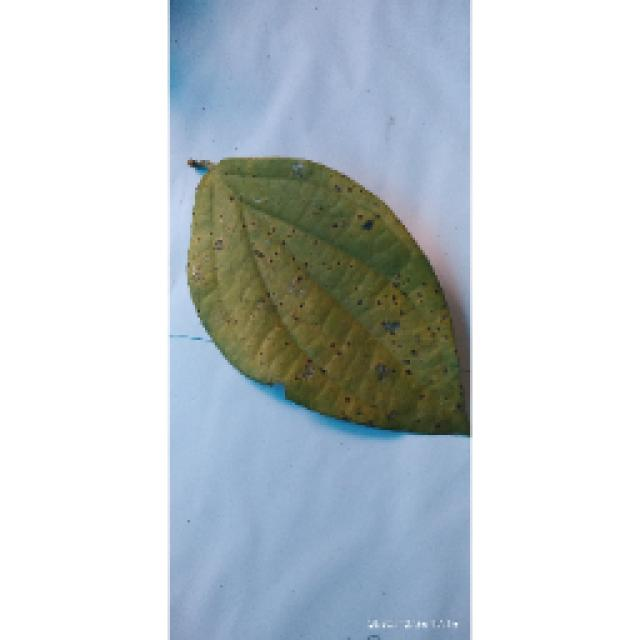slow-decline: (172, 140, 470, 435)
